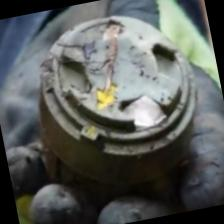M14: (24, 4, 206, 188)
